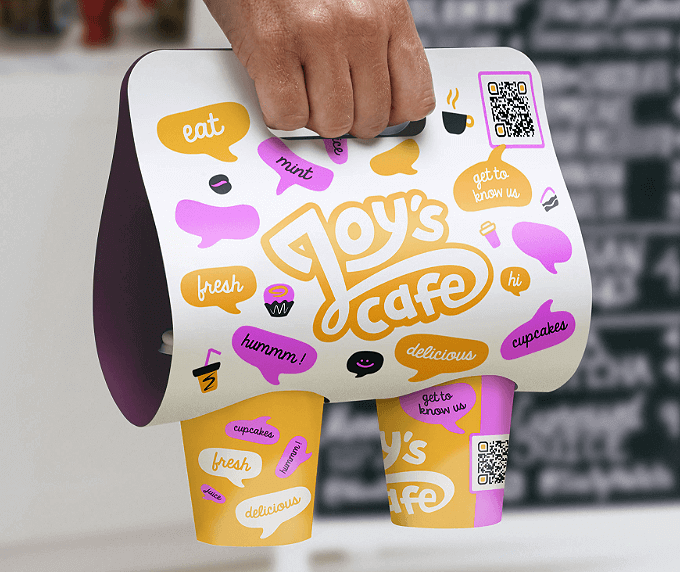qr_code: (481, 70, 544, 148)
